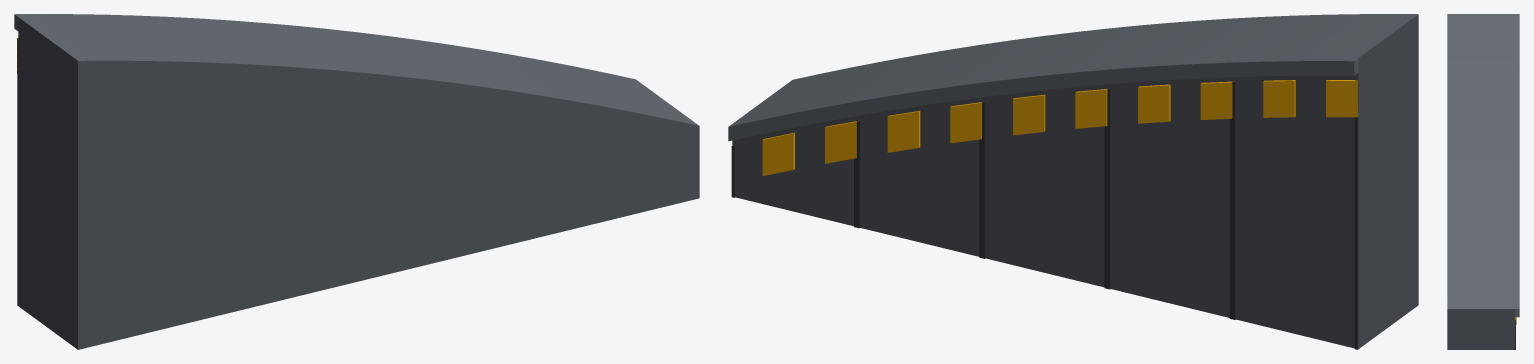
The picture shows the model from 3 angles, left to right: view 1: azimuth 30°, elevation 25°; view 2: azimuth 150°, elevation 25°; view 3: azimuth 270°, elevation 25°; orthographic projection. The views are drawn at different scales.
Parts seen in each view (by area): view 1: e12wf; view 2: e12wf; view 3: e12wf.
Part boxes in pixels (<box>): e12wf: <box>14,14,699,349</box>; e12wf: <box>728,14,1418,349</box>; e12wf: <box>1447,14,1519,349</box>.
Bounding box in the file's own units: 9 × 4 × 1.6.
